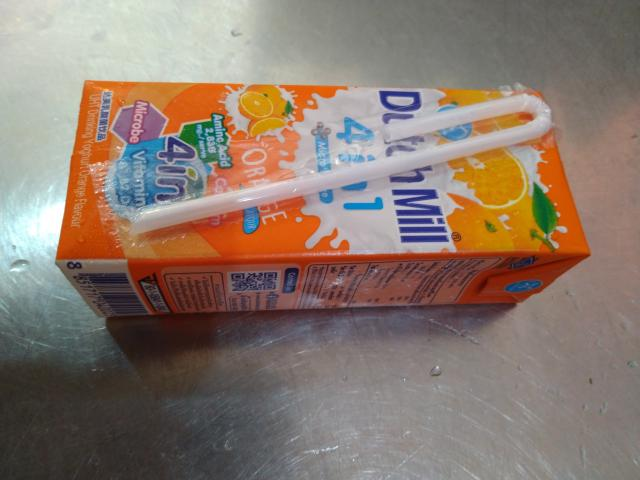drink_box: (41, 72, 598, 334)
